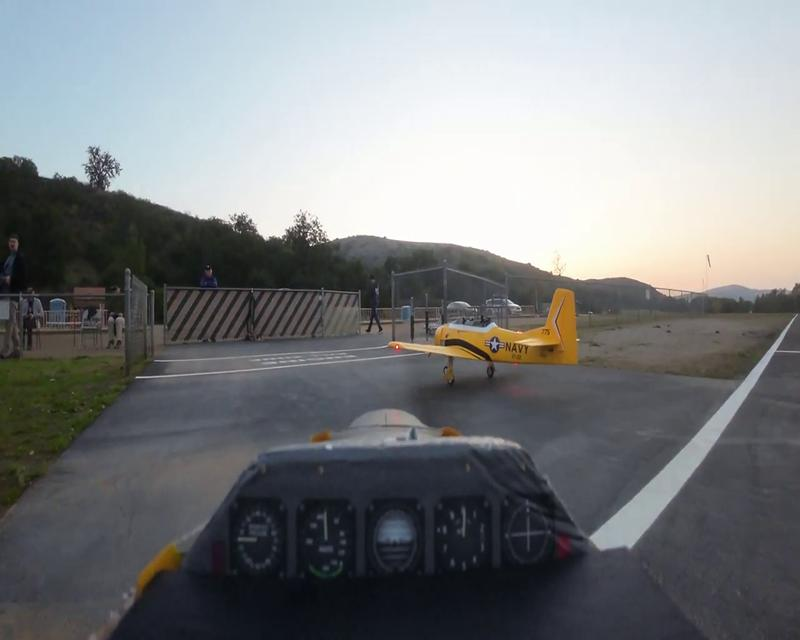UAV: (386, 286, 580, 387)
